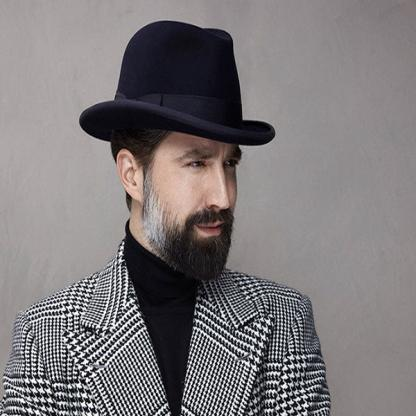hat: (81, 21, 278, 149)
